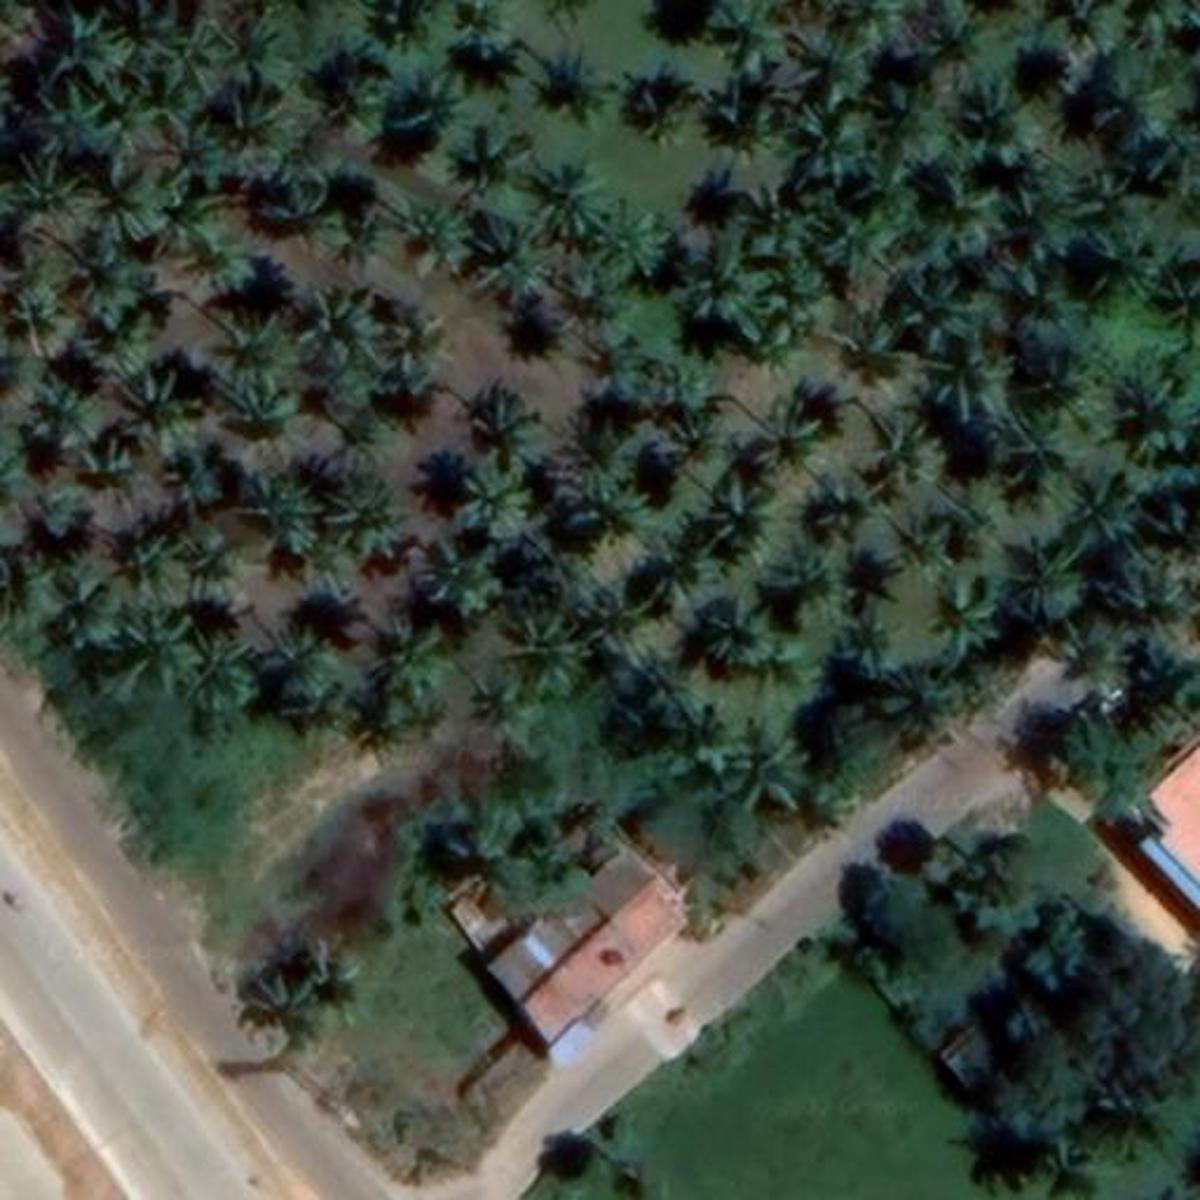coconut: (1071, 32, 1190, 147), (431, 803, 548, 911), (710, 719, 825, 816), (238, 459, 344, 564), (627, 520, 726, 630), (691, 227, 789, 337), (321, 462, 421, 567), (300, 285, 403, 386), (1099, 360, 1200, 462), (921, 323, 1027, 419), (984, 410, 1092, 503), (70, 241, 162, 351), (358, 611, 457, 712), (860, 403, 973, 492), (25, 564, 133, 656), (740, 386, 853, 471), (77, 168, 187, 255), (1000, 541, 1110, 627), (447, 445, 543, 543), (292, 938, 386, 1038), (569, 447, 667, 538), (7, 145, 107, 234), (944, 79, 1042, 168), (684, 468, 795, 546), (32, 86, 138, 166), (703, 604, 810, 684), (124, 363, 216, 454), (251, 159, 344, 248), (410, 541, 510, 623), (795, 112, 897, 192), (14, 367, 112, 451), (205, 89, 297, 178), (993, 187, 1095, 267), (185, 632, 278, 719), (447, 114, 541, 201), (1082, 215, 1169, 309), (581, 199, 673, 285), (646, 367, 735, 454), (616, 656, 703, 745), (752, 543, 855, 616), (890, 271, 986, 351), (918, 182, 1010, 262), (234, 970, 321, 1054), (616, 65, 703, 147), (808, 215, 911, 284), (373, 307, 447, 400), (505, 611, 588, 696), (885, 482, 982, 553), (532, 157, 621, 234), (253, 632, 344, 707), (110, 614, 201, 689), (321, 38, 398, 126), (389, 196, 473, 276), (149, 107, 229, 189), (185, 225, 285, 290), (79, 433, 159, 513), (9, 267, 84, 353), (216, 323, 300, 398), (930, 571, 1003, 656), (801, 30, 885, 103), (142, 30, 229, 100), (471, 215, 546, 297), (1071, 473, 1149, 548), (53, 11, 140, 79), (581, 342, 660, 410), (210, 21, 297, 82), (454, 677, 532, 745), (1129, 555, 1195, 635), (335, 199, 416, 262), (916, 11, 991, 77), (878, 682, 956, 745), (724, 84, 789, 157), (703, 7, 785, 63), (825, 600, 900, 660), (464, 396, 543, 452), (440, 4, 522, 56), (116, 536, 178, 595), (182, 538, 253, 585)
